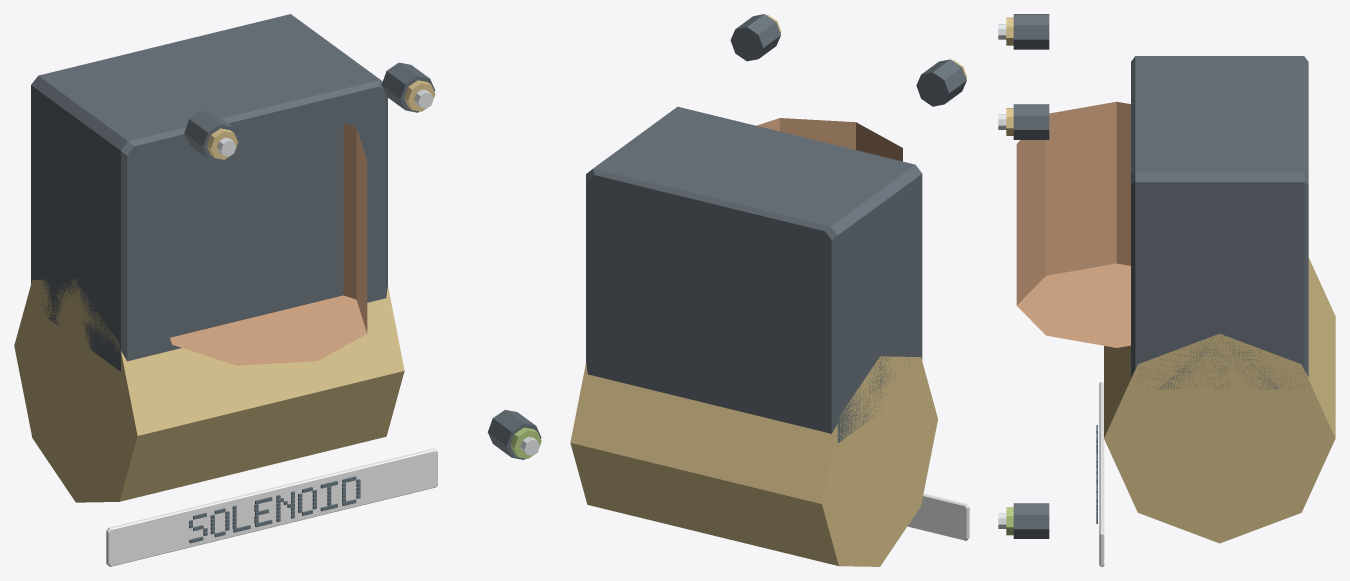
File: solenoidValve.glb
The picture shows the model from 3 angles, left to right: view 1: azimuth 30°, elevation 25°; view 2: azimuth 150°, elevation 25°; view 3: azimuth 270°, elevation 25°; orthographic projection. The views are drawn at different scales.
Visible parts, largest first — view 1: solenoidValve-board; view 2: solenoidValve-board; view 3: solenoidValve-board.
Boxes of the visible parts, left/top/right/bottom form: solenoidValve-board: left=14, top=14, right=541, bottom=566; solenoidValve-board: left=570, top=14, right=969, bottom=566; solenoidValve-board: left=998, top=14, right=1335, bottom=566.
Size of the model in its own units: 2.13 by 2.42 by 1.71.
